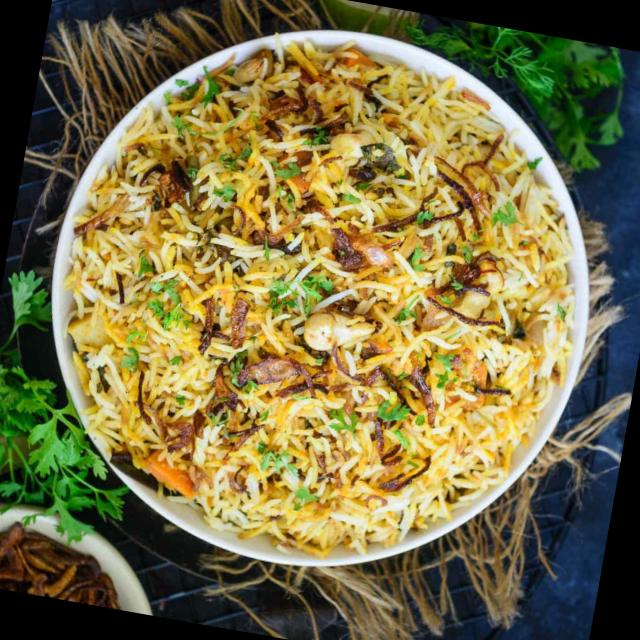Biryani: (23, 0, 618, 597)
